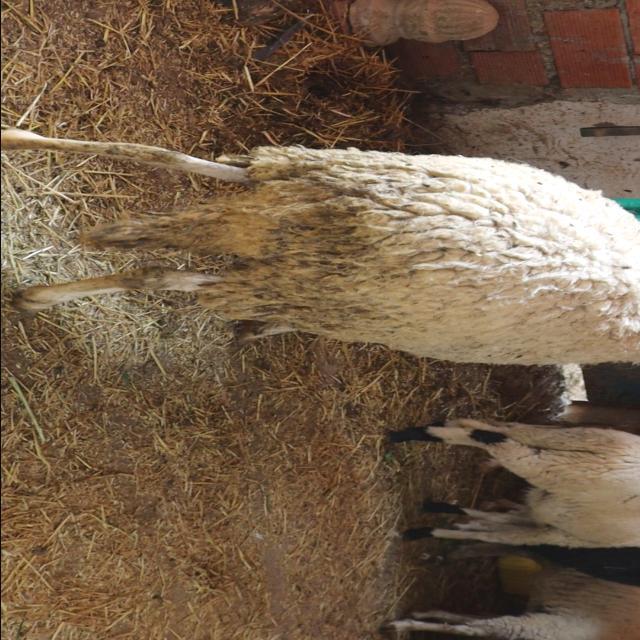Score_4: (1, 129, 640, 365)
